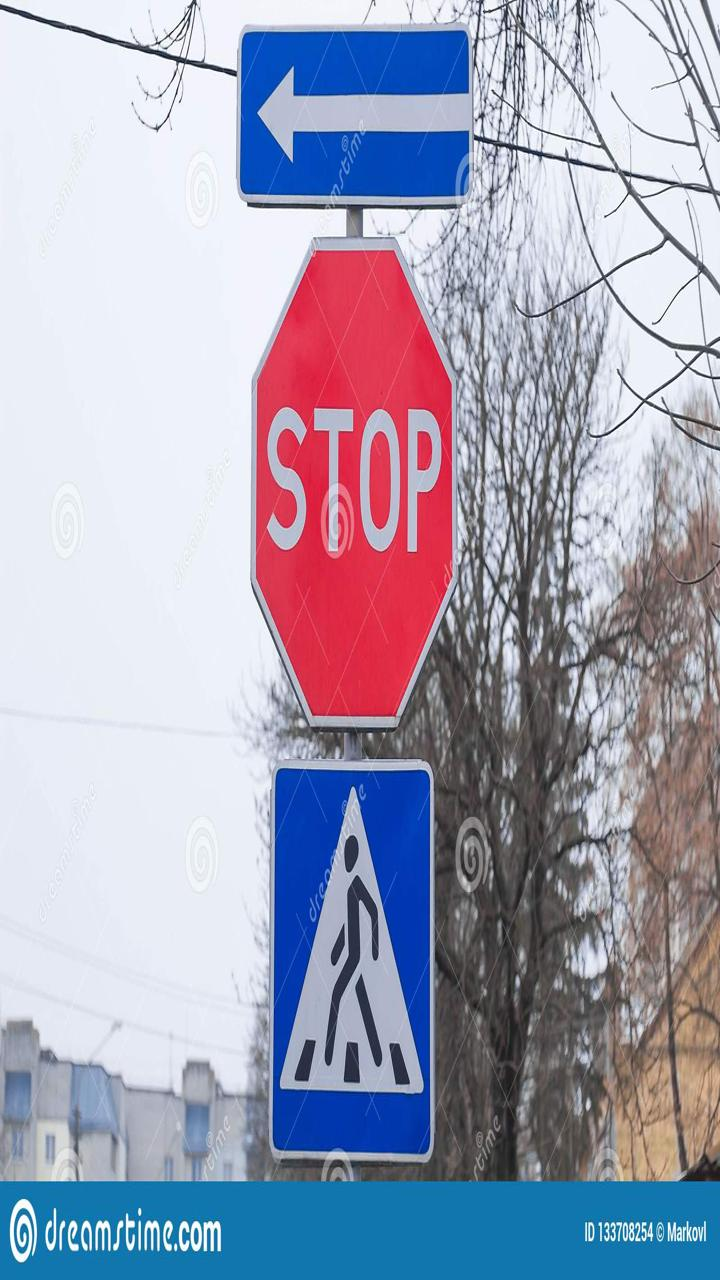Traffic sign: (226, 216, 479, 743), (227, 763, 491, 1181), (211, 7, 486, 226)
